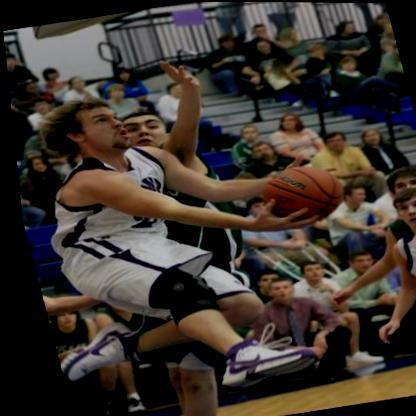basketball: (246, 158, 343, 225)
